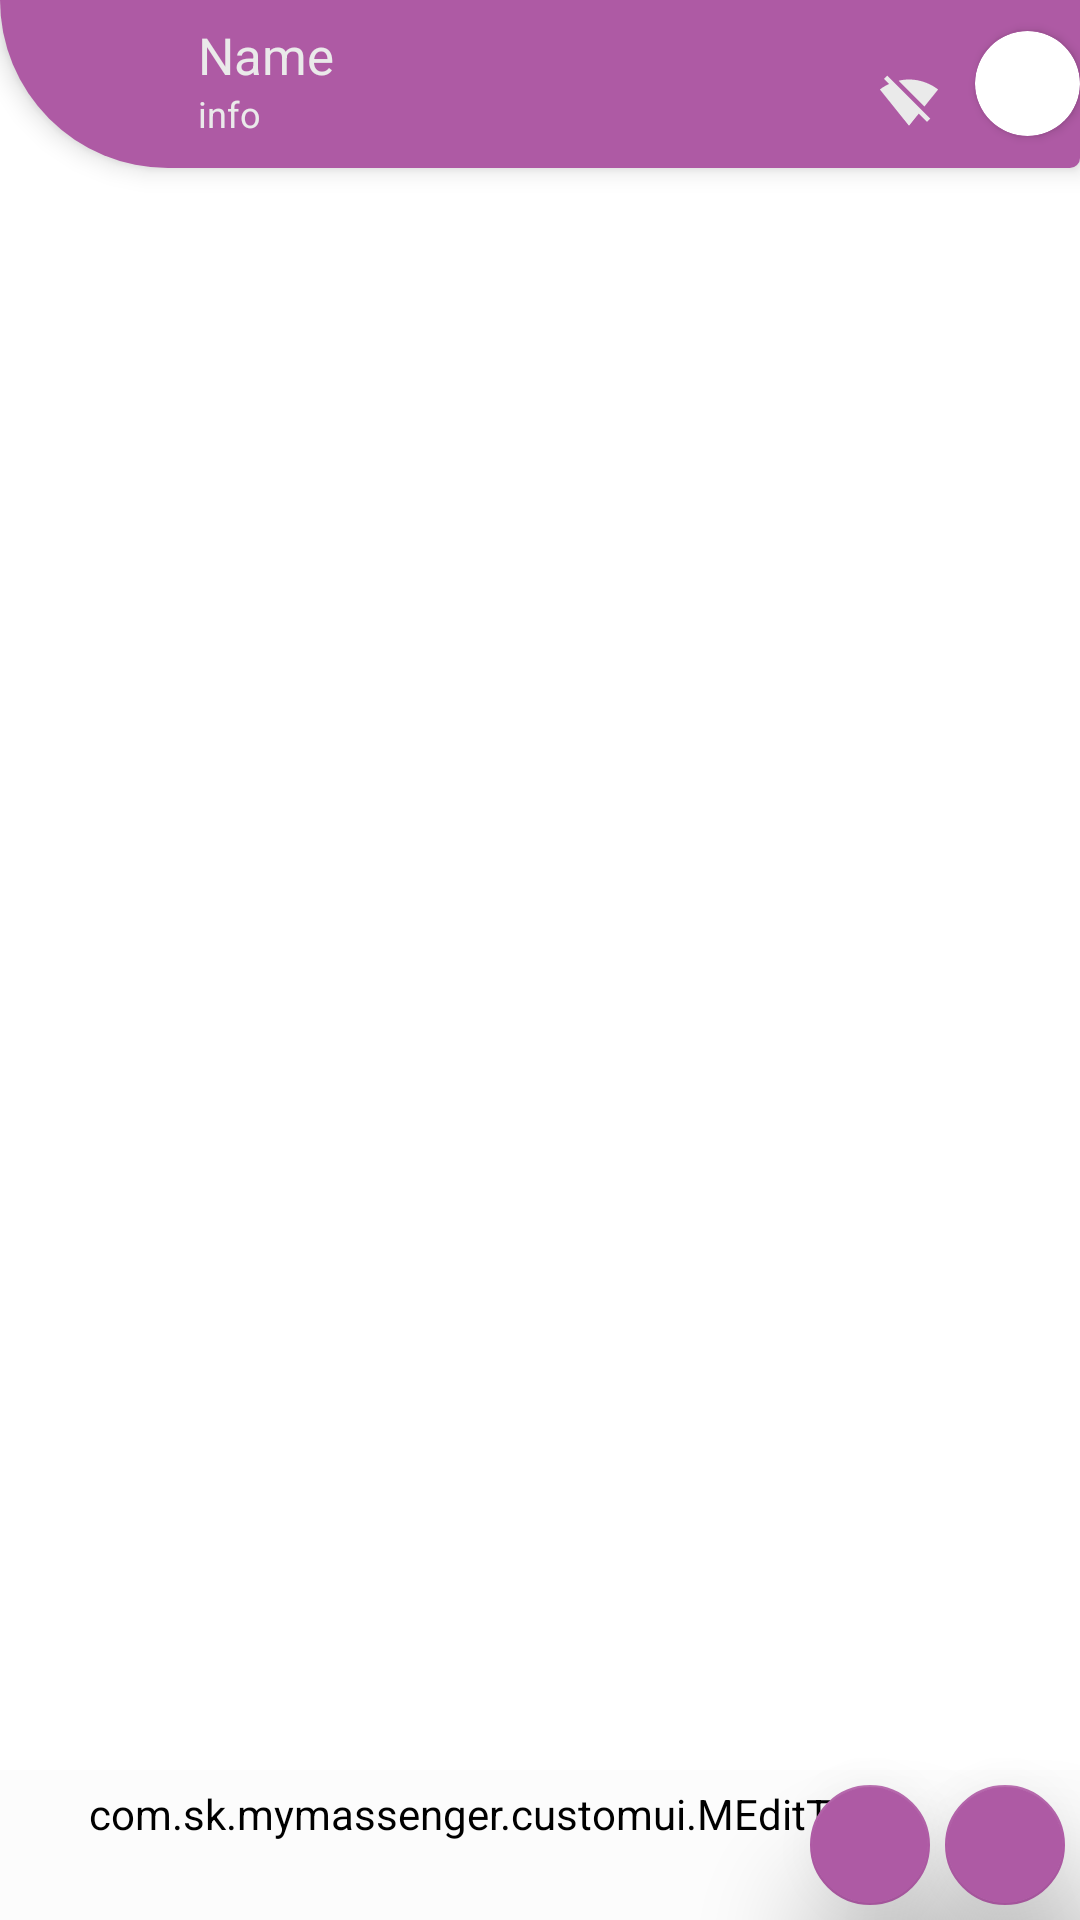

Screen size 1080*1920. Icon name, then its box in pixels as BBox(x1, y1, x2, y2):
ofline: BBox(880, 76, 938, 126)
